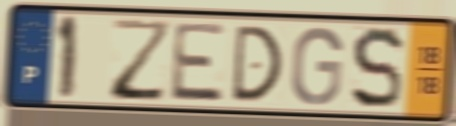1: (51, 13, 79, 103)
D: (229, 23, 286, 105)
E: (168, 20, 229, 105)
G: (287, 24, 346, 108)
S: (349, 24, 406, 113)
Z: (110, 17, 174, 105)
